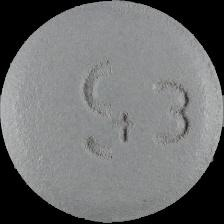55700-291: (0, 0, 224, 224)
